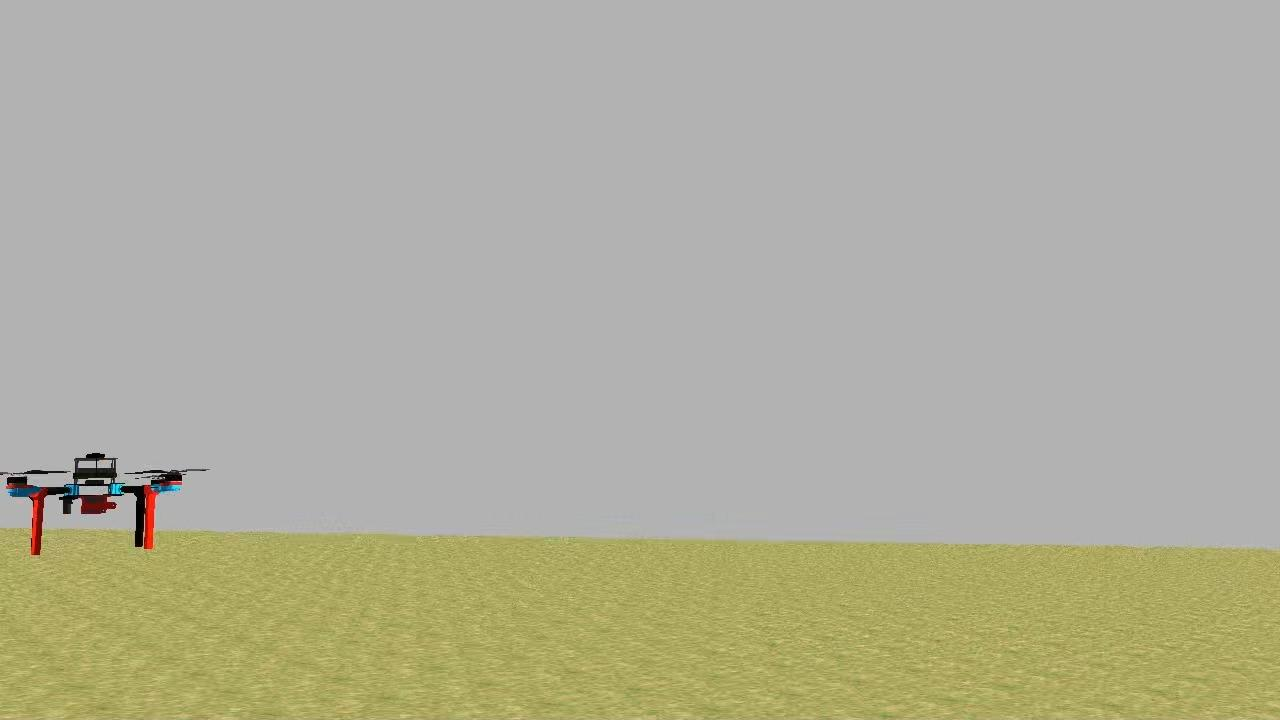UAV: (0, 440, 196, 564)
